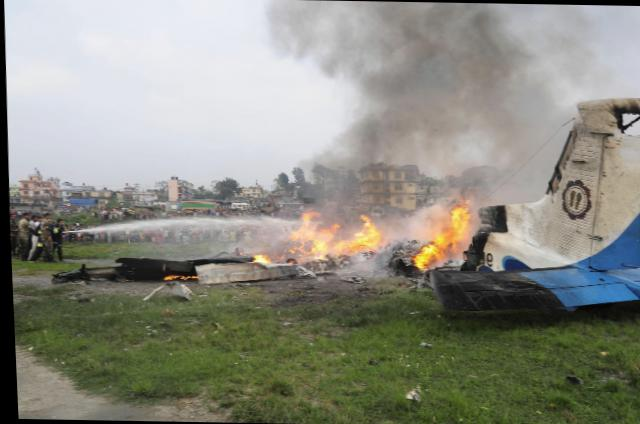fire: (448, 206, 470, 246), (307, 226, 334, 256), (355, 221, 381, 248), (292, 216, 317, 240), (414, 246, 441, 264), (330, 240, 352, 254), (433, 229, 450, 246), (251, 254, 267, 262)
